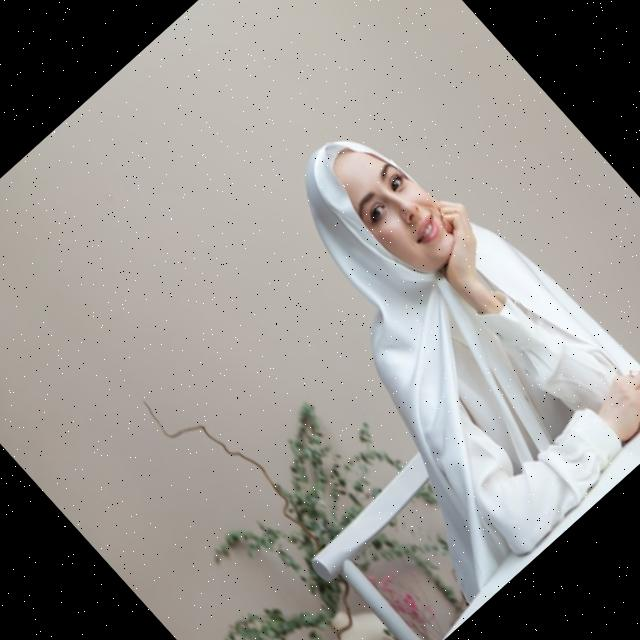Person: (174, 71, 640, 605)
